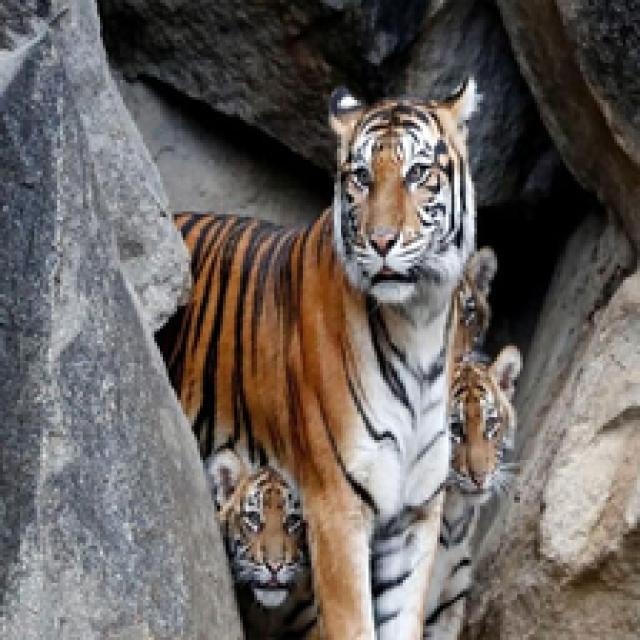tiger: (150, 74, 533, 616), (428, 268, 576, 488), (198, 443, 324, 620)
